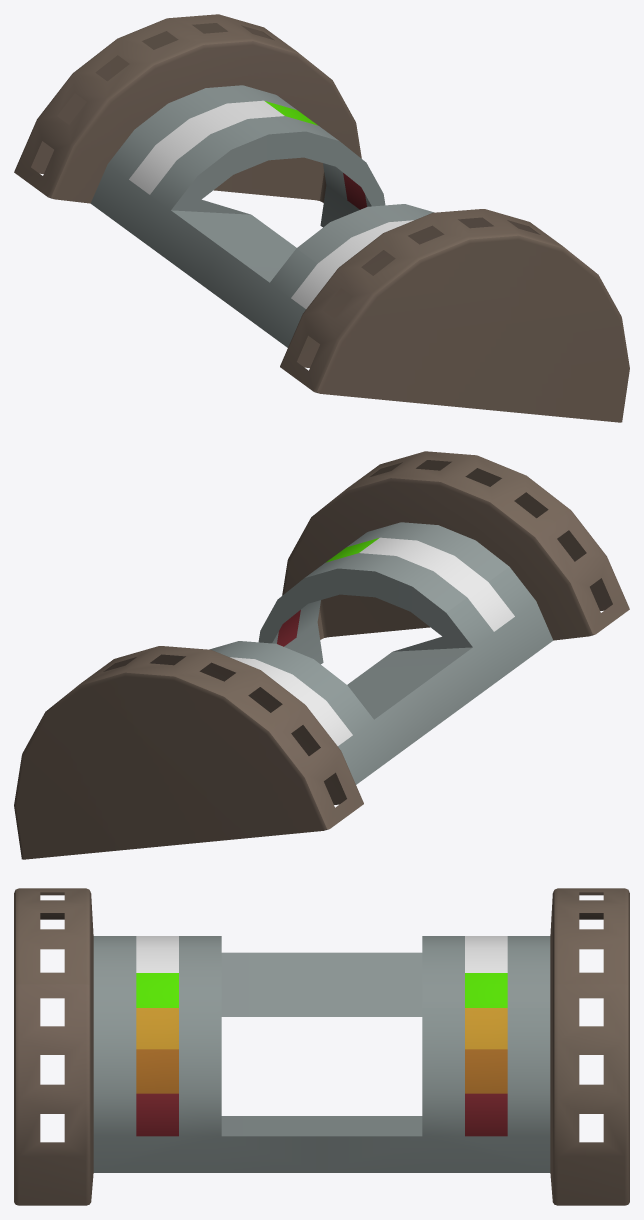
Rendered from Levone_Base.fbx.
3 views of the same model, one above another, from view 1: azimuth 30°, elevation 25°; view 2: azimuth 150°, elevation 25°; view 3: azimuth 270°, elevation 25° (orthographic).
Parts seen in each view (by area): view 1: polySurface274; view 2: polySurface274; view 3: polySurface274.
Boxes of the visible parts, x1,y1,x2,y2 form: polySurface274: [14, 14, 629, 422]; polySurface274: [14, 451, 629, 859]; polySurface274: [14, 888, 629, 1205].
Size of the model in its own units: 32.34 by 21.7 by 53.84.
